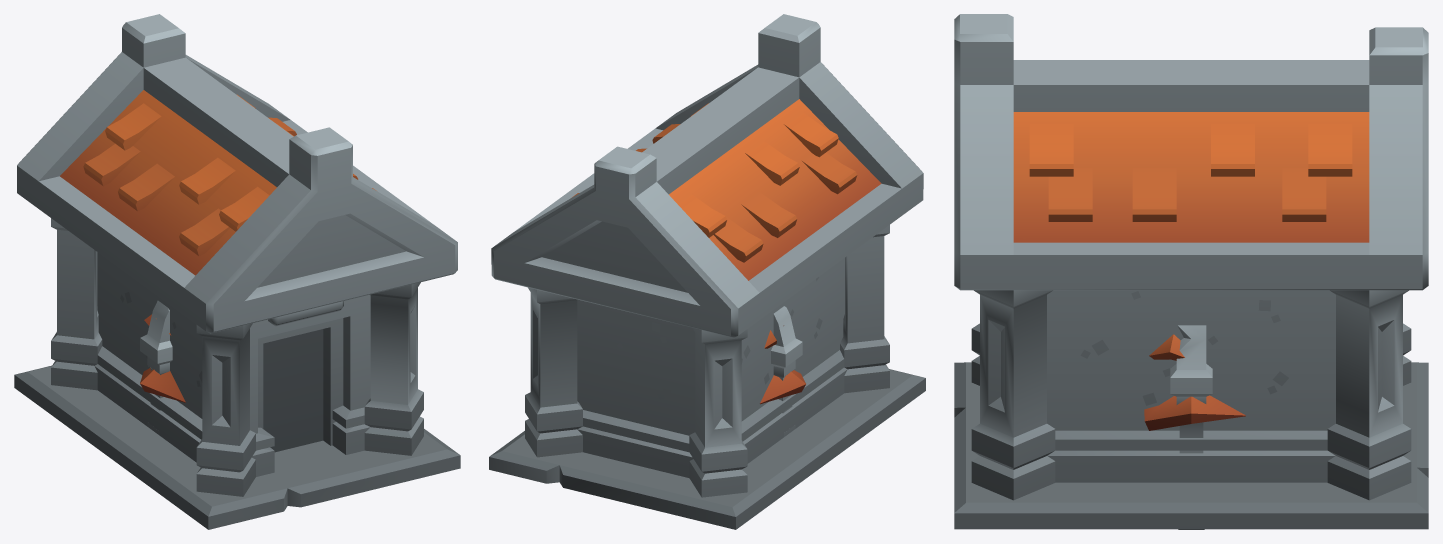
The model's file is grave.glb.
The picture shows the model from 3 angles, left to right: view 1: azimuth 30°, elevation 25°; view 2: azimuth 150°, elevation 25°; view 3: azimuth 270°, elevation 25°; orthographic projection. The views are drawn at different scales.
Parts seen in each view (by area): view 1: crypt, arch, tree_pine_orange_large; view 2: crypt, arch, tree_pine_orange_large; view 3: crypt, arch, tree_pine_orange_large.
Boxes of the visible parts, box(x1,y1,x2,y2) form: crypt: box(14, 14, 460, 529); arch: box(140, 300, 172, 435); tree_pine_orange_large: box(140, 314, 185, 402); crypt: box(489, 14, 925, 529); arch: box(771, 306, 802, 436); tree_pine_orange_large: box(760, 325, 805, 404); crypt: box(954, 14, 1428, 529); arch: box(1170, 325, 1212, 453); tree_pine_orange_large: box(1144, 334, 1245, 430).
Bounding box in the file's own units: 6 × 9.31 × 8.
1 material, 1 textured.
